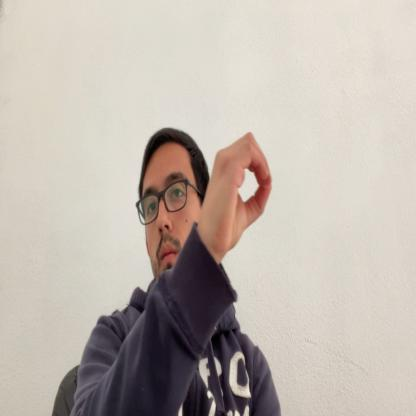O: (205, 130, 274, 257)
